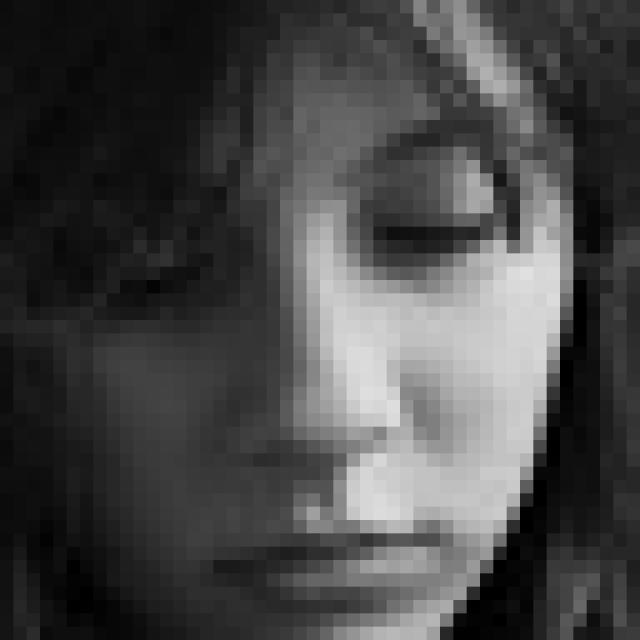sad: (80, 105, 537, 625)
